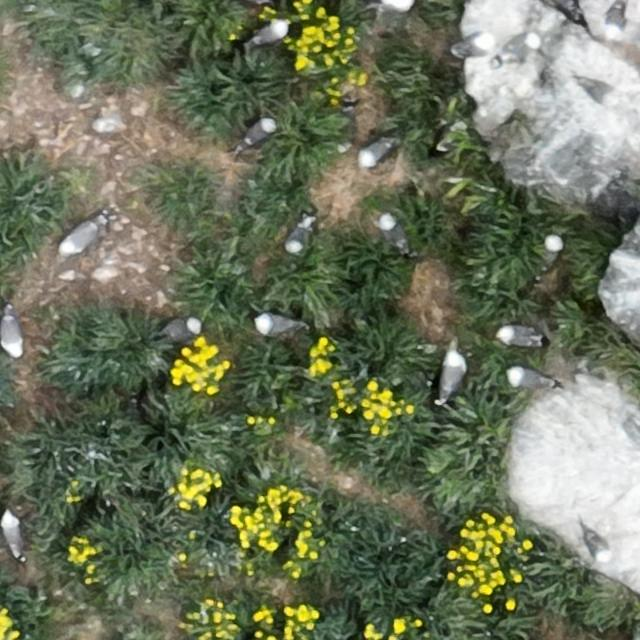umineko: (58, 208, 111, 257), (451, 32, 492, 64), (602, 0, 632, 41), (440, 350, 464, 396), (584, 526, 611, 562), (2, 315, 24, 357), (250, 20, 288, 44), (4, 515, 25, 558), (160, 318, 198, 341), (244, 117, 275, 145), (498, 36, 532, 61), (506, 368, 548, 388), (379, 218, 405, 250), (580, 81, 618, 102), (359, 139, 390, 164), (256, 313, 294, 333), (287, 218, 310, 251), (498, 326, 536, 345), (544, 233, 562, 264), (373, 0, 417, 11)
